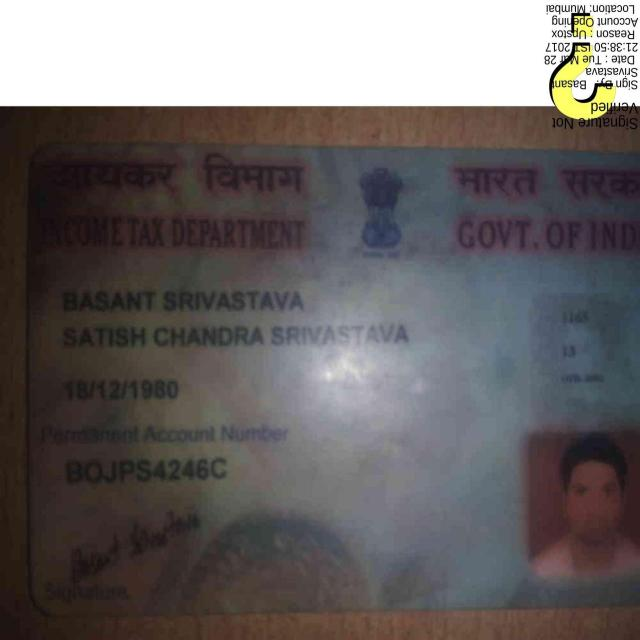pan_card: (32, 144, 640, 601)
